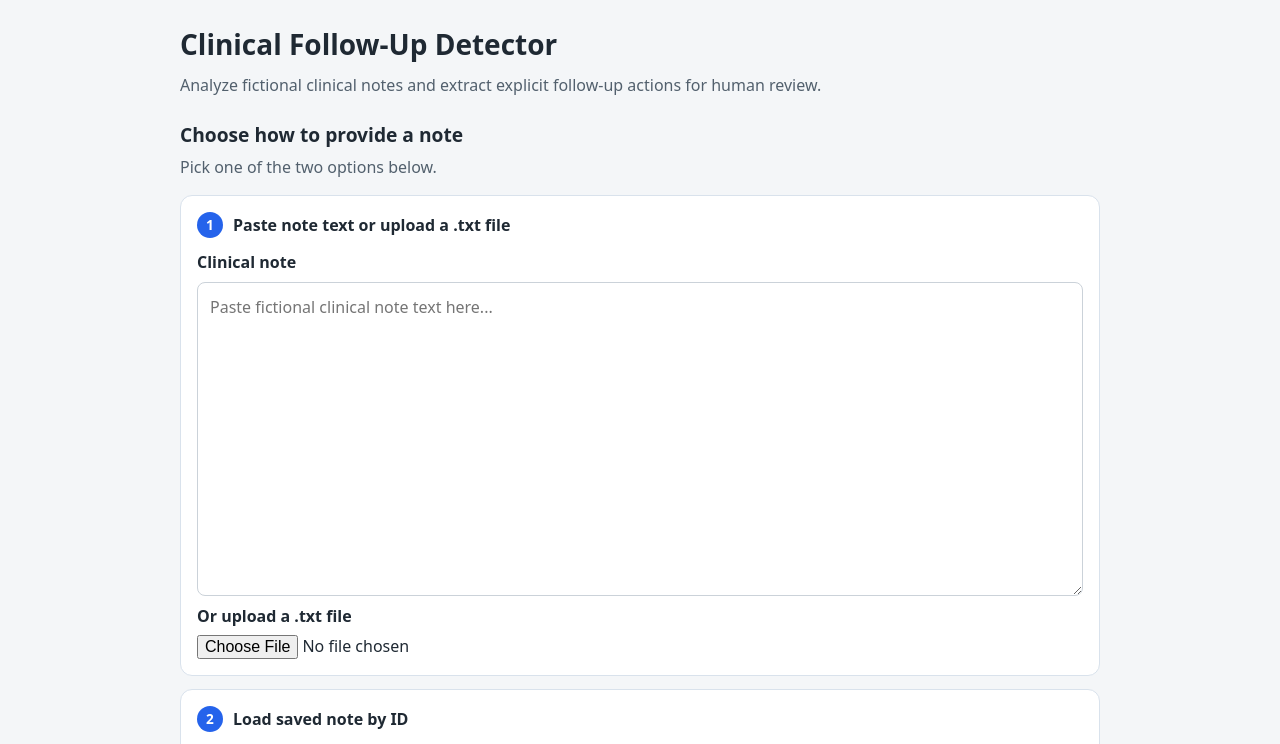
it: analyze flow › shows note id after successful analyze
In the text box labelled "Clinical note": (640, 439) [197,282,1083,596], type "The patient should repeat a CBC within seven days."
(page scrolled)
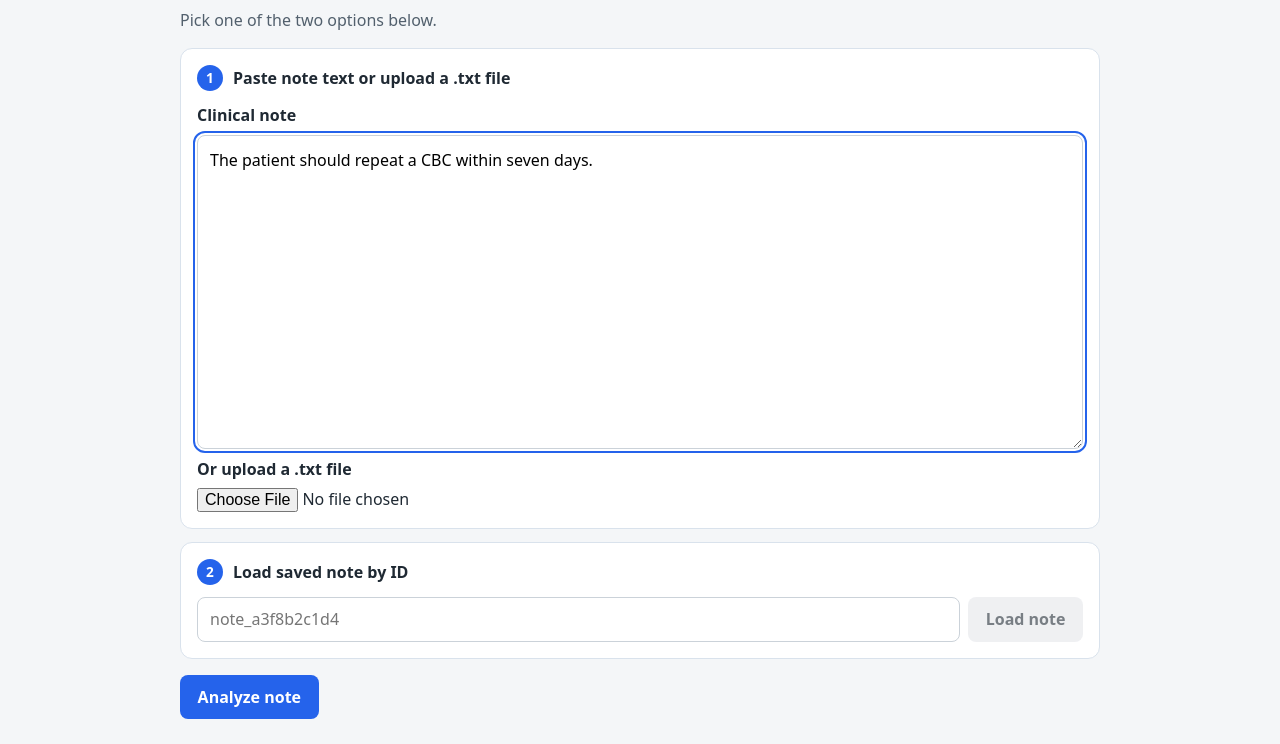
Click the button "Analyze note": (249, 697) [180,674,319,719]
(page scrolled)
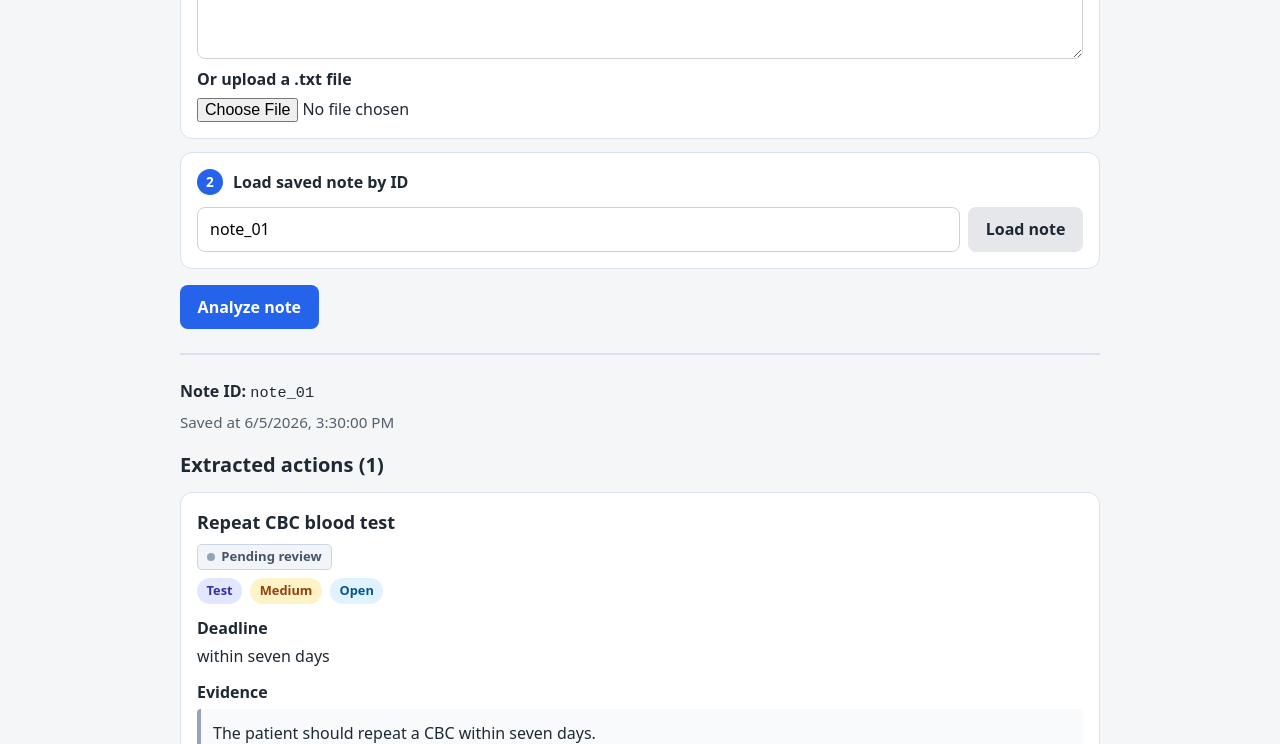
Expected: the text "note_01" is shown, [250,384,314,402]
Expected: the text "Note ID:" is shown, [180,380,246,402]
